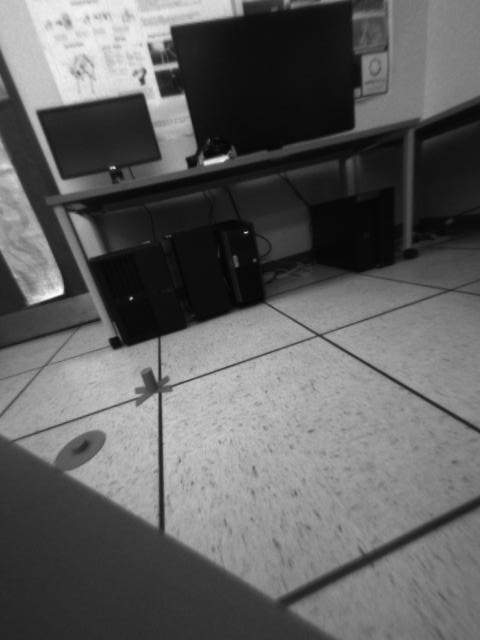X: (135, 368, 172, 406)
